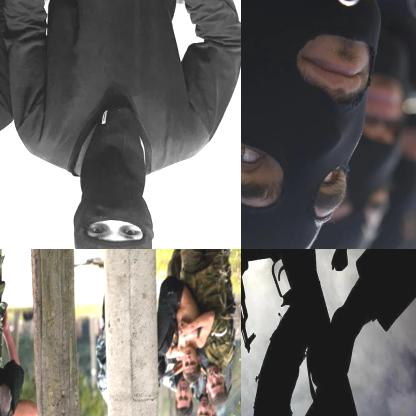rifle: (241, 249, 386, 415), (241, 249, 257, 356)
